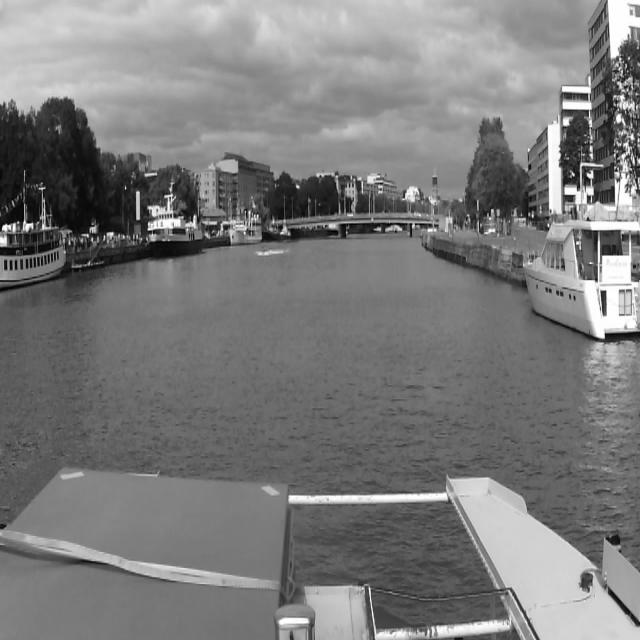ship: (520, 158, 640, 346), (0, 206, 73, 294), (143, 178, 205, 260), (226, 209, 264, 246), (262, 214, 280, 244), (279, 219, 293, 239), (254, 241, 269, 256)
